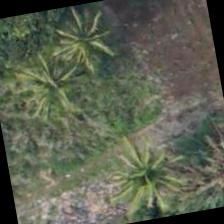Kelapa_Sawit: (0, 30, 100, 135), (93, 125, 199, 223), (33, 0, 137, 94), (154, 141, 223, 216)
